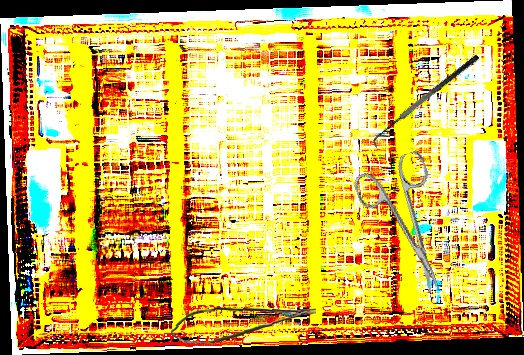Iris Scissors: (349, 149, 468, 305)
Micro Scissor: (169, 303, 318, 347)
Spatula Surgical: (367, 53, 487, 151)
